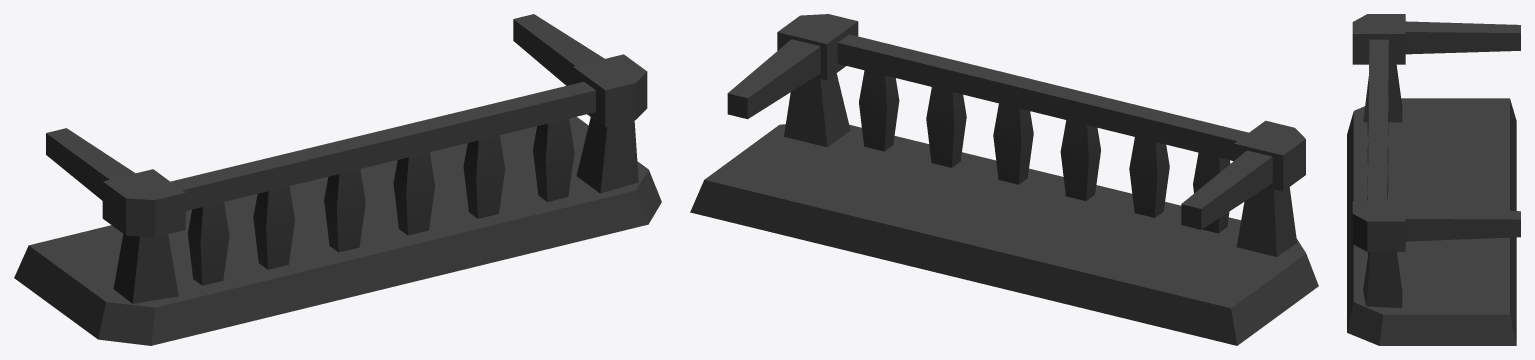
The model's file is Balcony_D1.fbx.
The picture shows the model from 3 angles, left to right: view 1: azimuth 30°, elevation 25°; view 2: azimuth 150°, elevation 25°; view 3: azimuth 270°, elevation 25°; orthographic projection. The views are drawn at different scales.
Parts seen in each view (by area): view 1: Balcony_D1; view 2: Balcony_D1; view 3: Balcony_D1.
Boxes of the visible parts, x1,y1,x2,y2 form: Balcony_D1: (14,14,661,345); Balcony_D1: (690,14,1318,345); Balcony_D1: (1347,14,1520,345).
Bounding box in the file's own units: 557 × 133 × 182.
